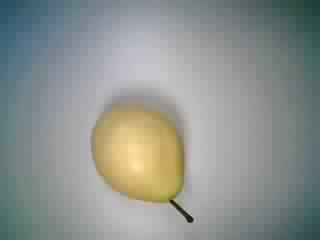pear: (76, 97, 210, 232)
